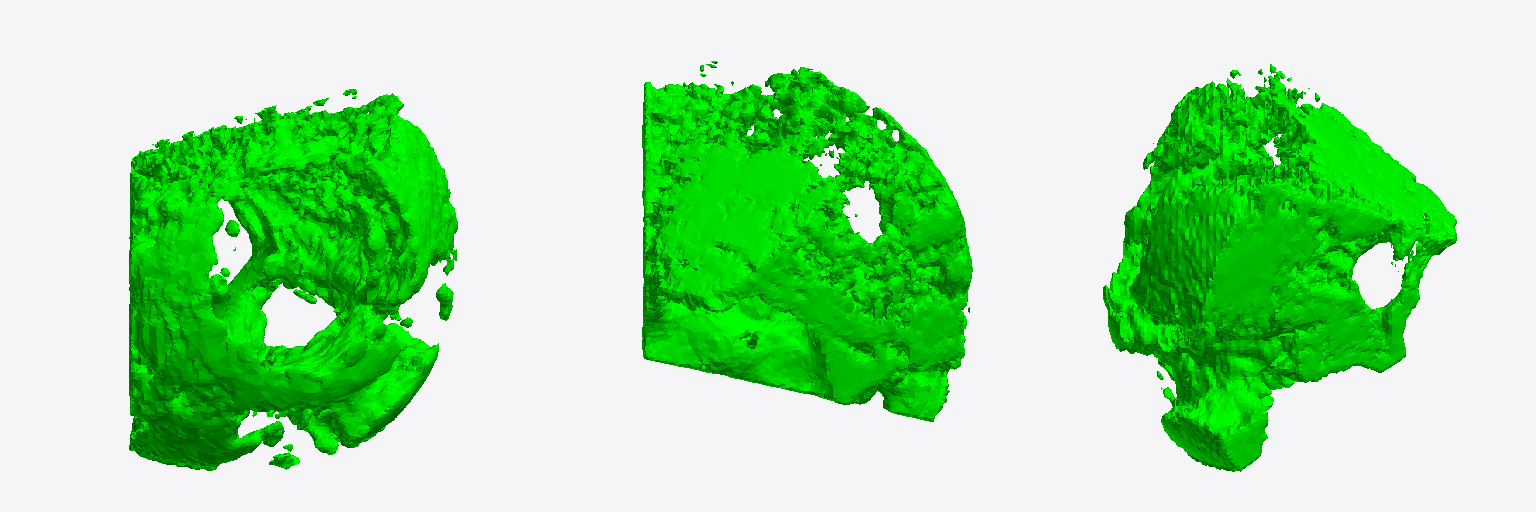
The model's file is B939XXXX-1_base_16.obj.
The picture shows the model from 3 angles: view 1: azimuth 30°, elevation 25°; view 2: azimuth 150°, elevation 25°; view 3: azimuth 270°, elevation 25°; orthographic projection.
Parts seen in each view (by area): view 1: 16_base; view 2: 16_base; view 3: 16_base.
Boxes of the visible parts, x1=… form: 16_base: x1=129, y1=89, x2=457, y2=470; 16_base: x1=642, y1=61, x2=972, y2=421; 16_base: x1=1103, y1=64, x2=1456, y2=471.
Size of the model in its own units: 219 by 220 by 206.